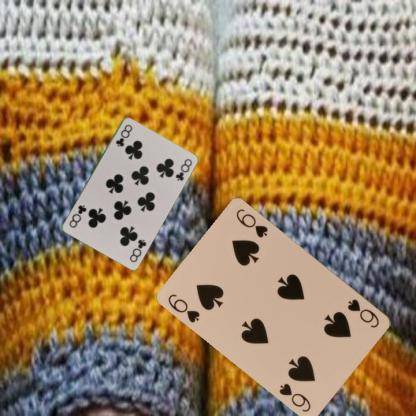6s: (345, 296, 381, 330), (166, 291, 202, 324)
8c: (126, 236, 148, 264), (113, 121, 134, 148)
